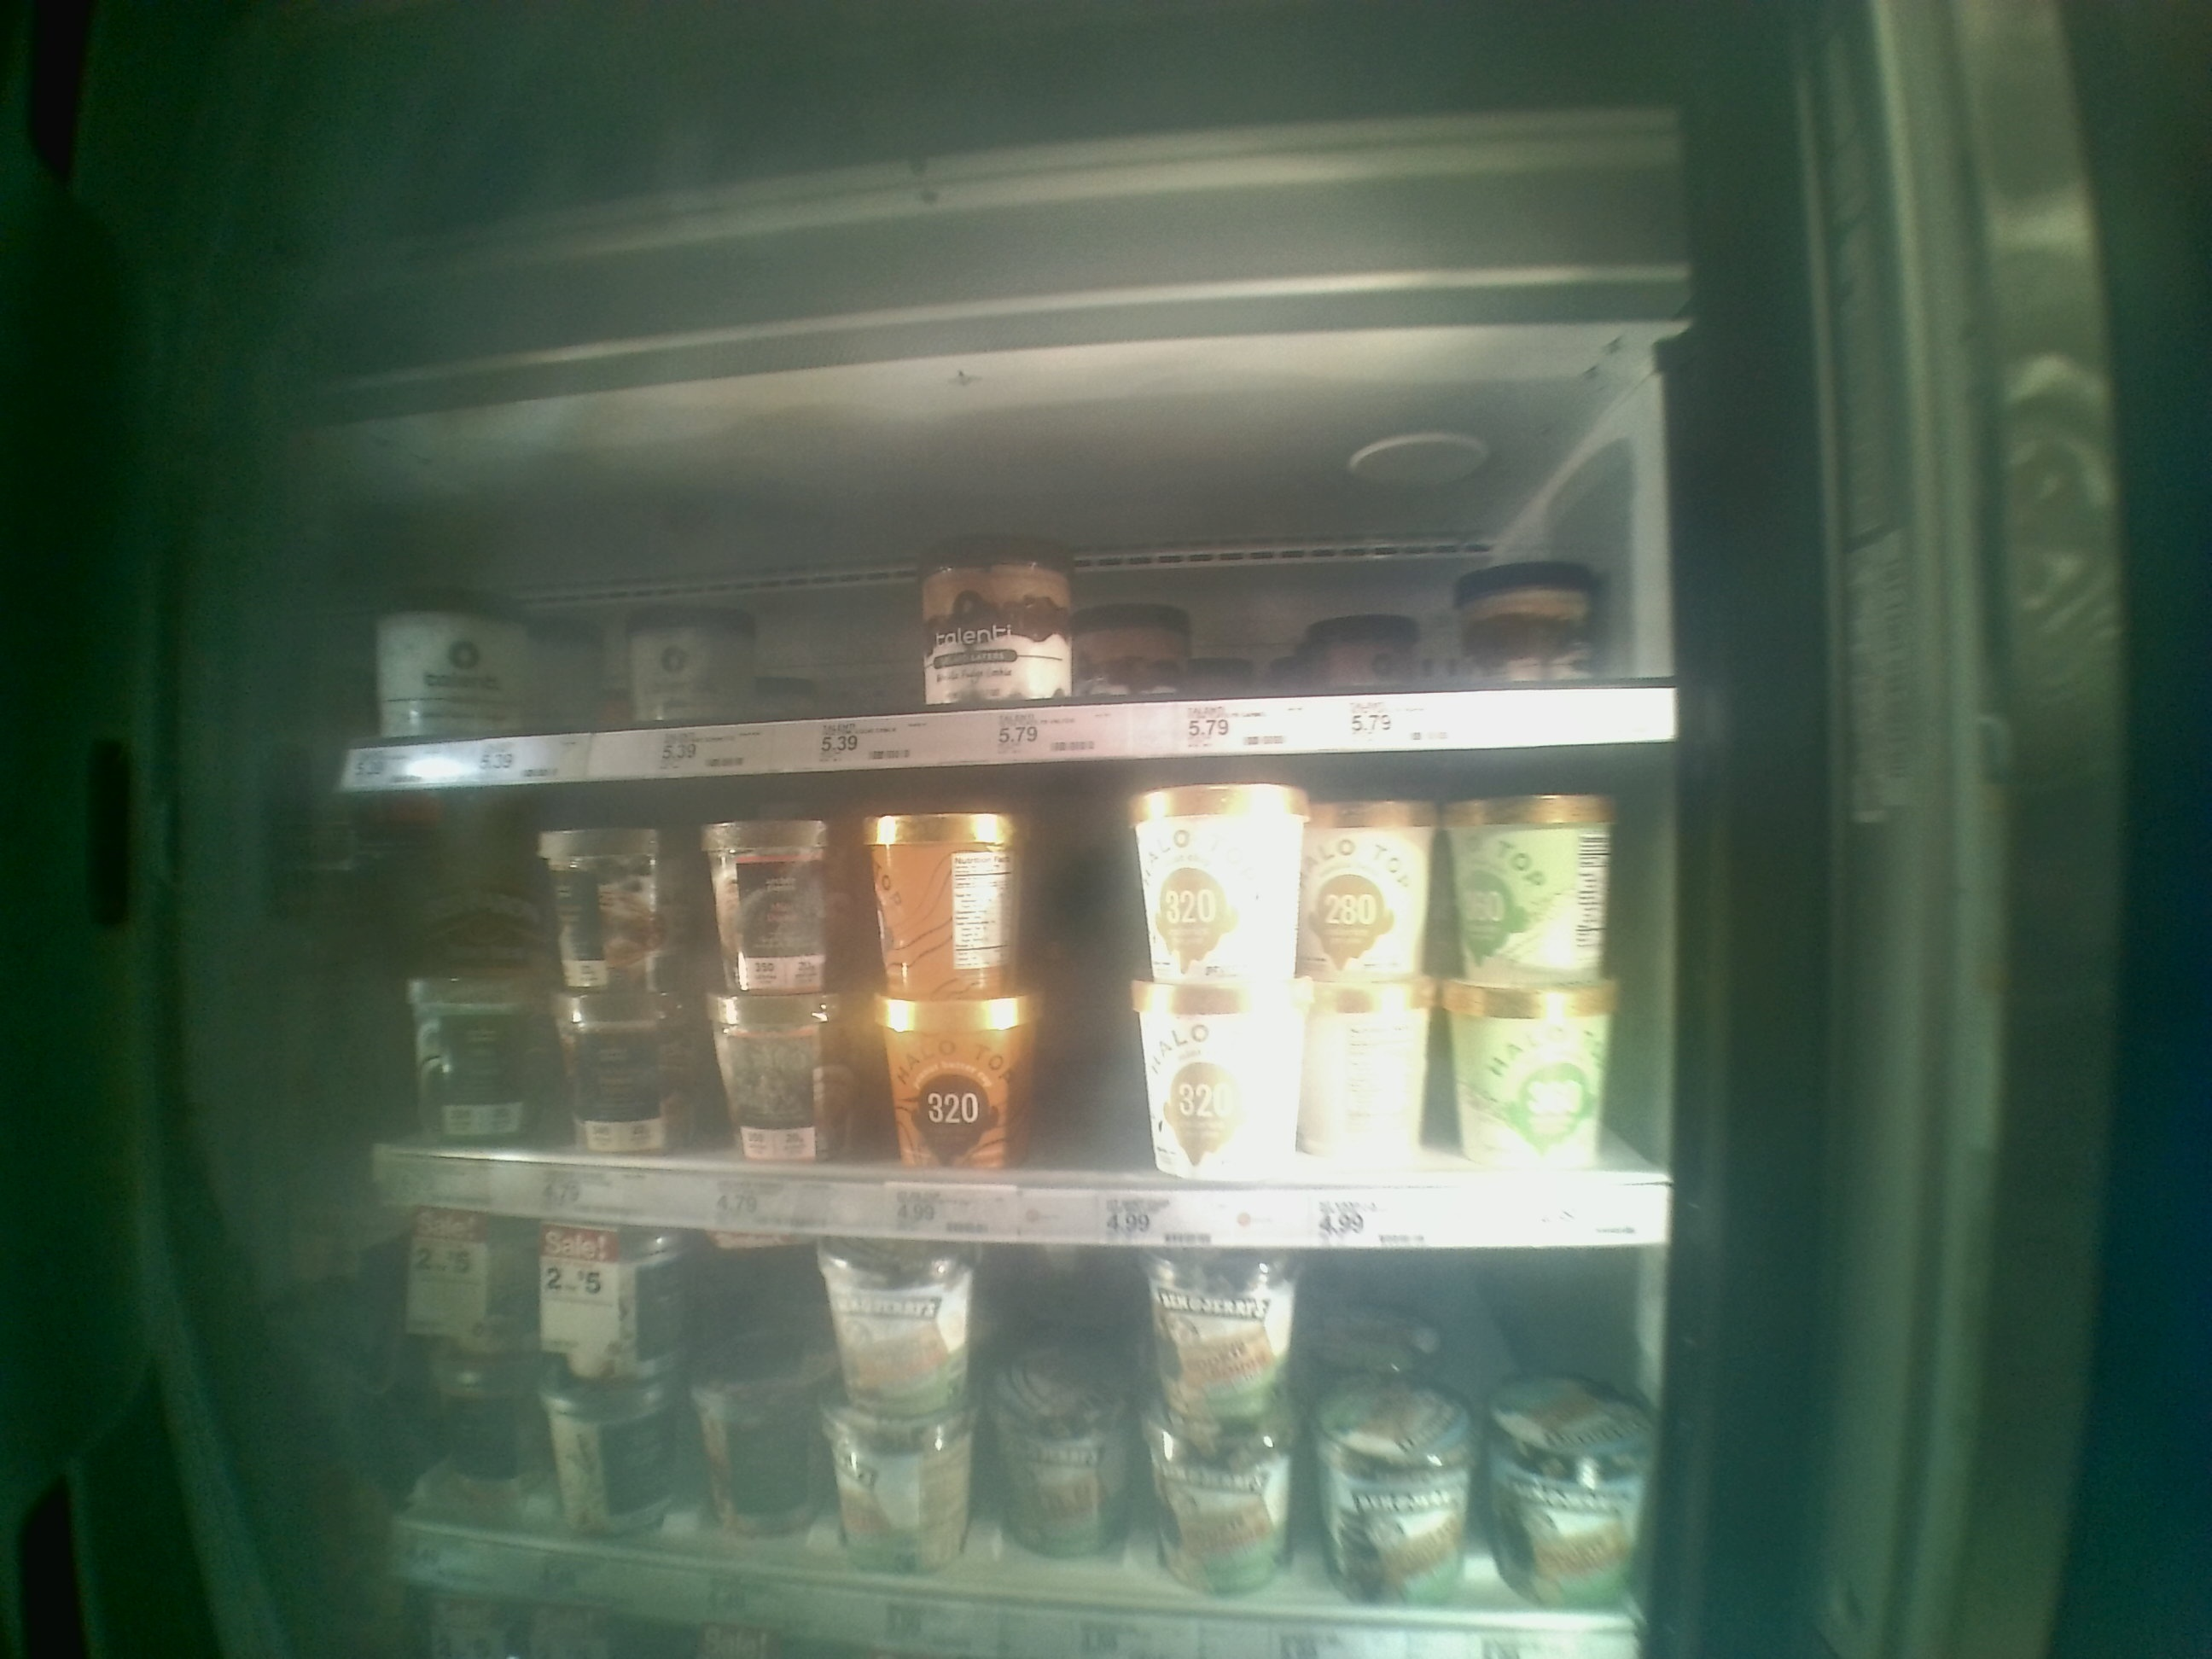ice-cream-shelf: (326, 784, 1679, 1244), (310, 457, 1674, 777)
